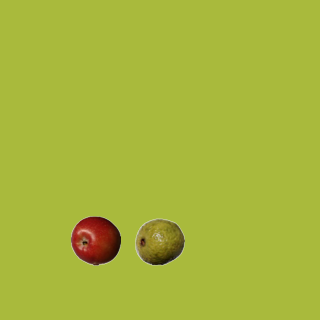Apple Braeburn: (70, 215, 120, 265)
Guava: (134, 216, 184, 266)
